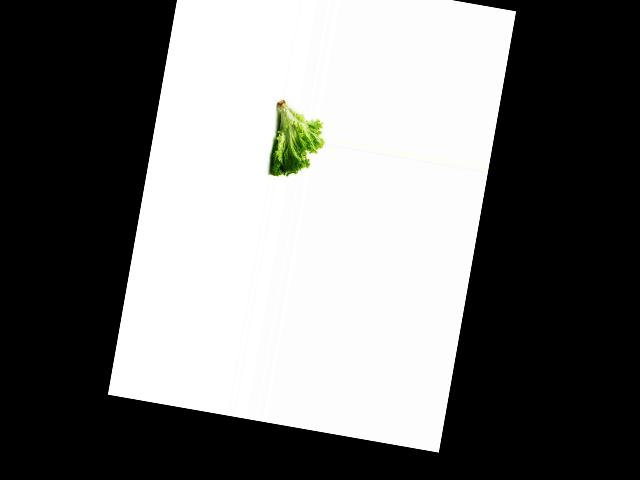lettuce: (263, 97, 331, 183)
